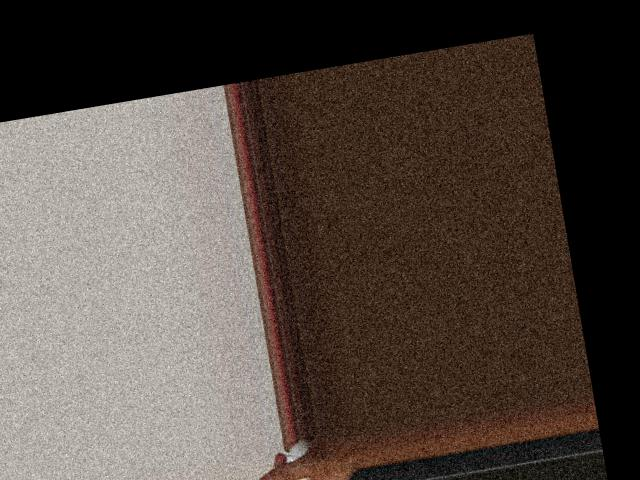egg: (233, 477, 286, 480)
